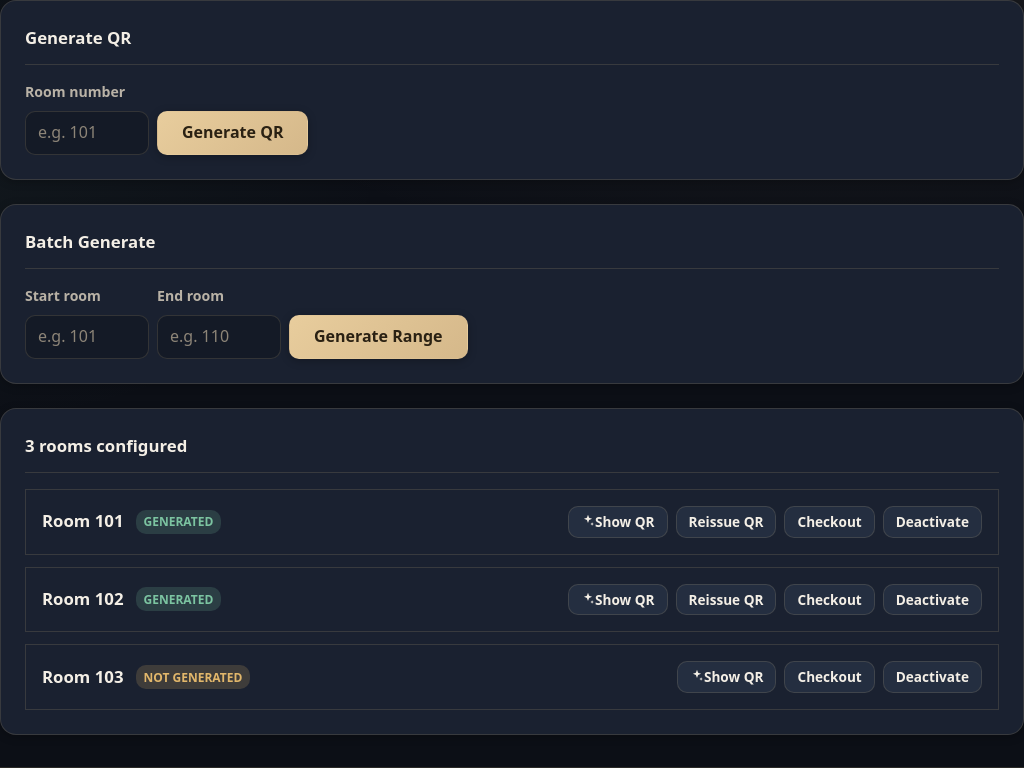
Test: StaffRoomsQRView › rejects duplicate room numbers
Expected: the text "Room 101" is shown, x1=42 y1=508 x2=124 y2=535
In the number field labelled "Room number": (87, 133) x1=25 y1=111 x2=149 y2=155, type "101"
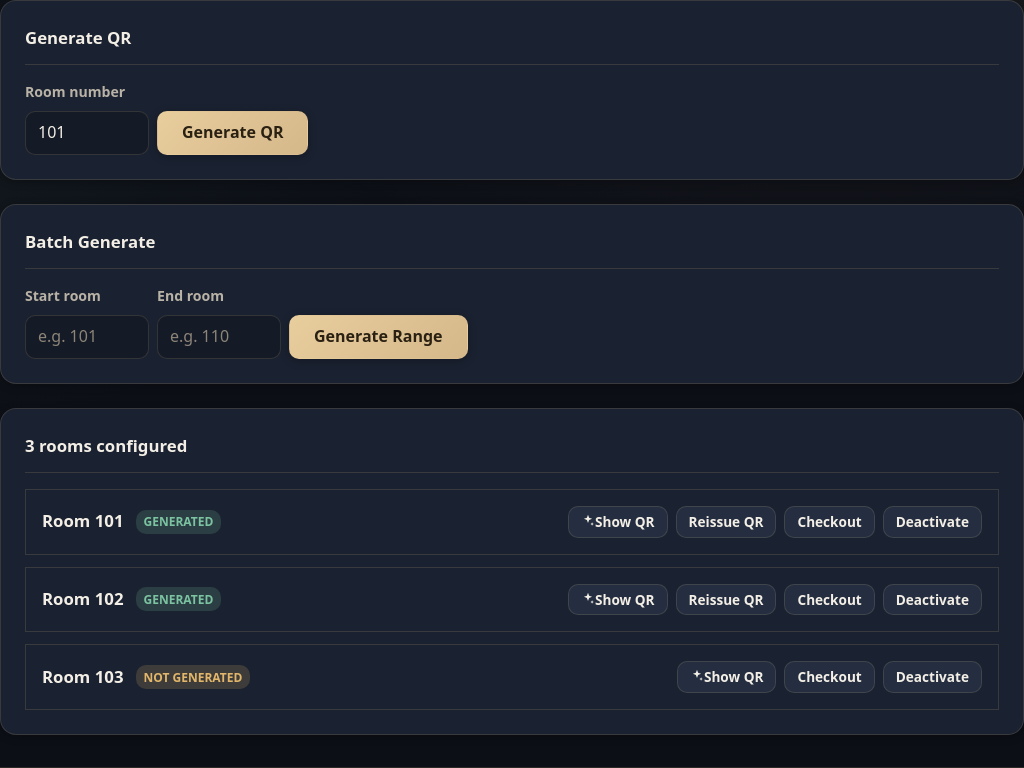
Submit the form "Room number Generate QR", box x1=25 y1=82 x2=308 y2=155
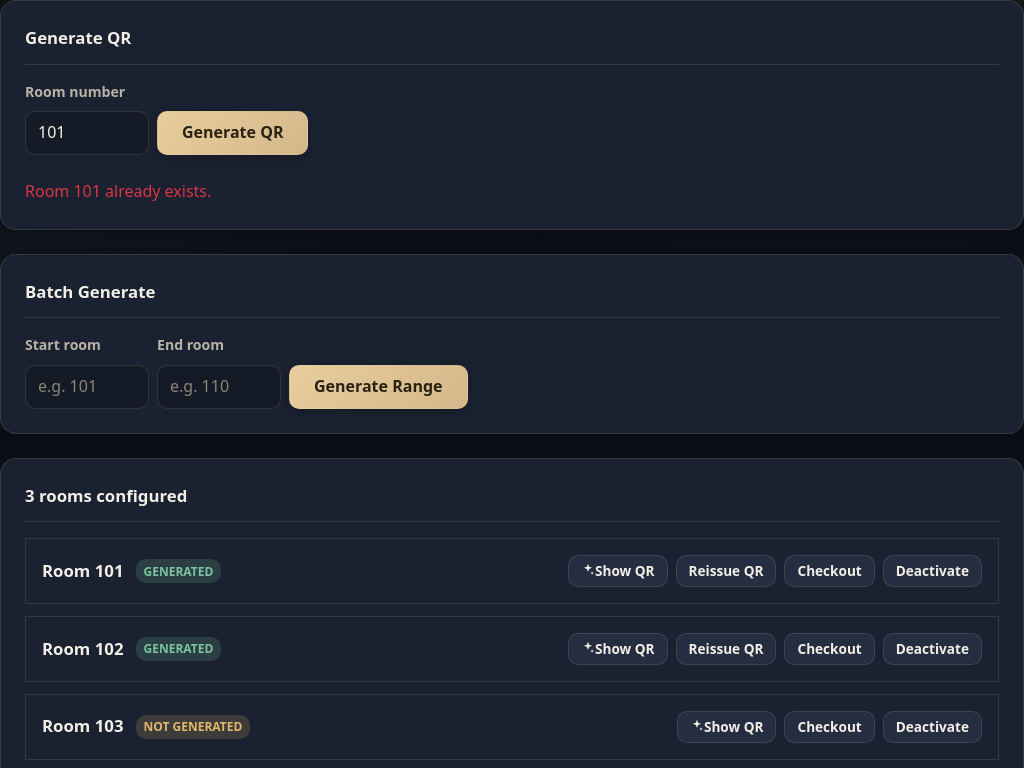
Expected: the text "Room 101 already exists." is shown, x1=25 y1=180 x2=211 y2=202
